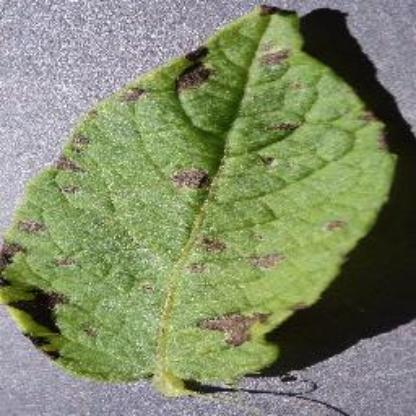Early-Blight: (2, 6, 400, 392)
